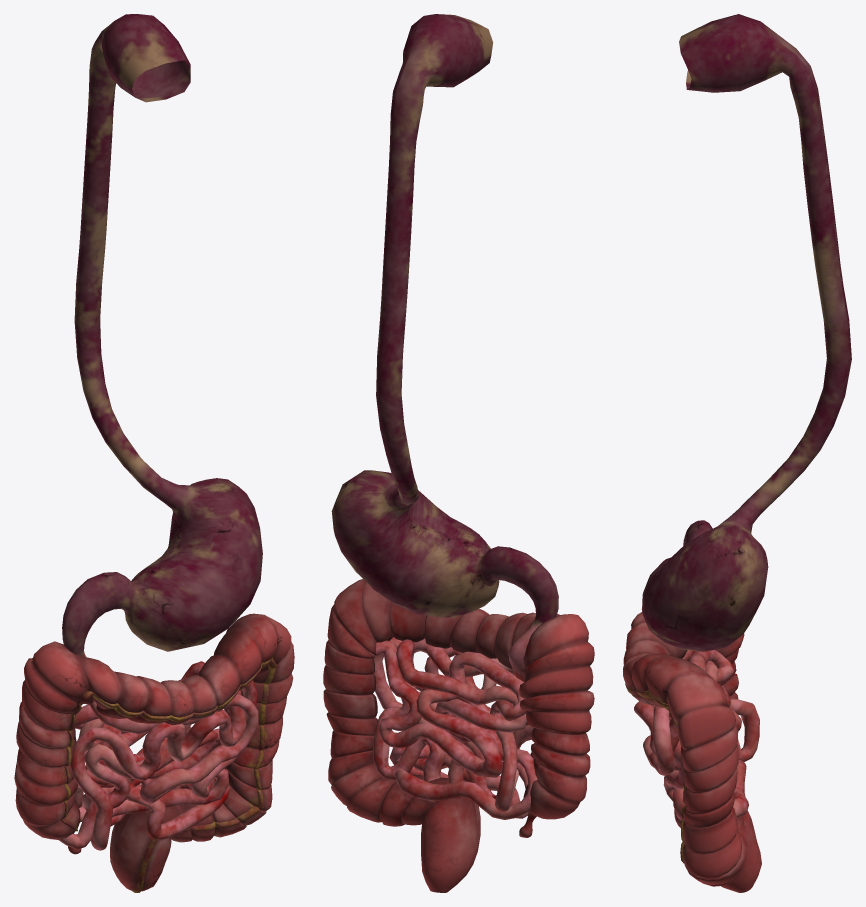
File: digestive.glb
3 views of the same model, side by side, from view 1: azimuth 30°, elevation 25°; view 2: azimuth 150°, elevation 25°; view 3: azimuth 270°, elevation 25° (orthographic).
Parts seen in each view (by area): view 1: Division_1_stomach_0_6; view 2: Division_1_stomach_0_6; view 3: Division_1_stomach_0_6.
Boxes of the visible parts, x1=… form: Division_1_stomach_0_6: x1=14, y1=14, x2=294, y2=892; Division_1_stomach_0_6: x1=323, y1=14, x2=594, y2=892; Division_1_stomach_0_6: x1=623, y1=14, x2=851, y2=892.
Bounding box in the file's own units: 0.3487 × 1.1 × 0.2608.
1 material, 1 textured.
